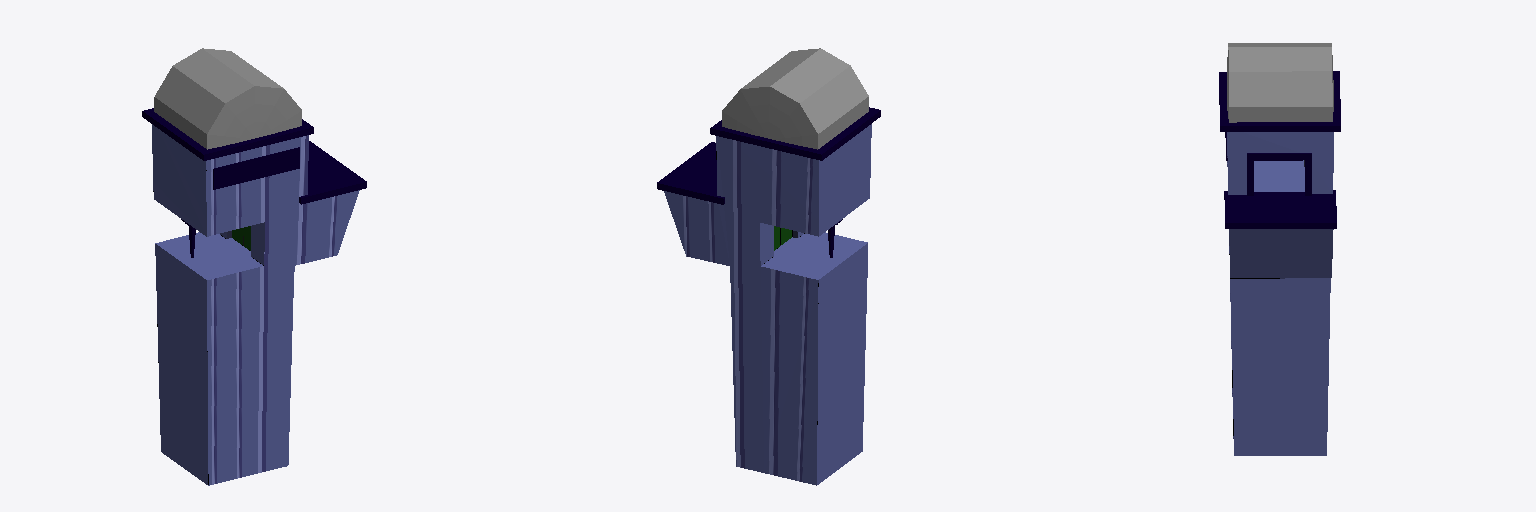
3 renders of one model, left to right at view 1: azimuth 30°, elevation 25°; view 2: azimuth 150°, elevation 25°; view 3: azimuth 270°, elevation 25°, orthographic.
Parts seen in each view (by area): view 1: Box002, OilTank001, Box004, Box003, Box005; view 2: Box002, OilTank001, Box004, Box003; view 3: Box002, OilTank001, Box004, Box003.
Part boxes in pixels (left/top/right/bottom): Box002: left=152, top=124, right=359, bottom=485; OilTank001: left=154, top=48, right=301, bottom=149; Box004: left=299, top=141, right=366, bottom=204; Box003: left=142, top=108, right=313, bottom=160; Box005: left=213, top=147, right=299, bottom=189; Box002: left=664, top=124, right=871, bottom=485; OilTank001: left=722, top=48, right=868, bottom=149; Box004: left=657, top=142, right=724, bottom=204; Box003: left=710, top=107, right=880, bottom=160; Box002: left=1227, top=132, right=1333, bottom=455; OilTank001: left=1227, top=43, right=1333, bottom=122; Box004: left=1224, top=190, right=1336, bottom=228; Box003: left=1219, top=71, right=1340, bottom=131.
Bounding box in the file's own units: 38.84 × 86.55 × 24.56.
Materials: 3 (1 with a texture image).